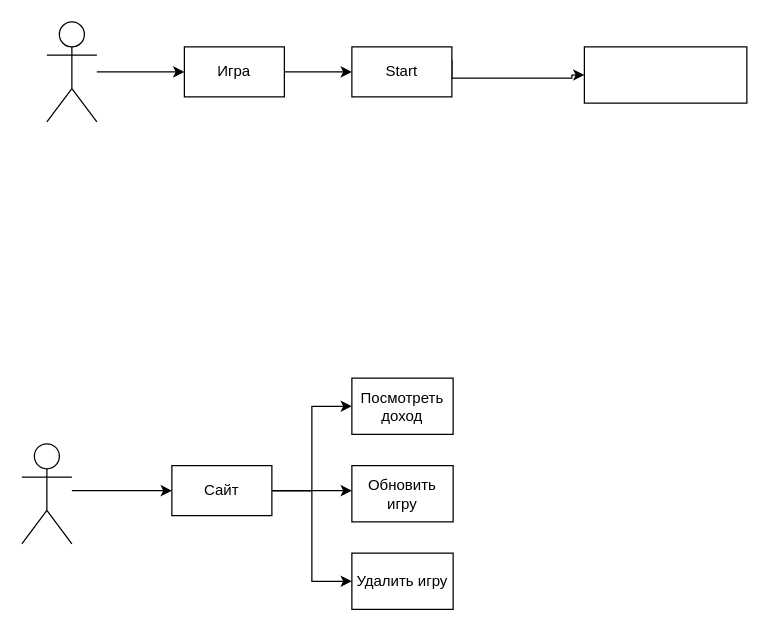
Image size: 769x631. Some labels were removed from this diagram. The centre of each missing label's shape, as x and y in pixels:
"Админ" belongs at [46,493].
"Выбор варианта ответа" belongs at [665,74].
"Пользователь" belongs at [71,71].
